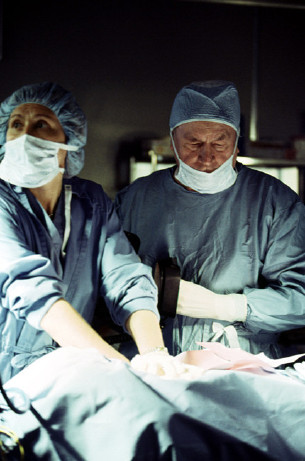face_mask: (4, 108, 62, 189), (175, 118, 235, 194)
